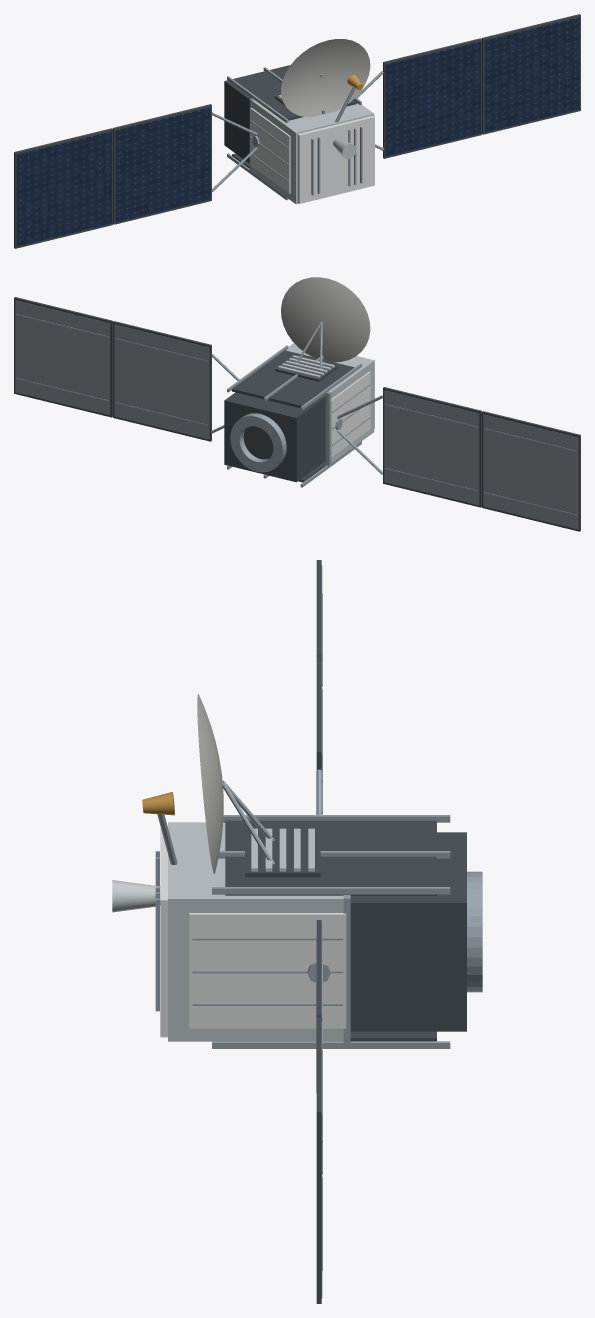
The model's file is a2100-amc-compact.glb.
The picture shows the model from 3 angles, top to bottom: view 1: azimuth 30°, elevation 25°; view 2: azimuth 150°, elevation 25°; view 3: azimuth 270°, elevation 25°; orthographic projection. The views are drawn at different scales.
Parts seen in each view (by area): view 1: Solar cell panel (×4), Communications reflector, Earth-facing deck, Solar panel frame (×4), Payload module, Radiator face, Service module, Equipment bay sidewall, Equipment bay longeron, Payload feed cluster; view 2: Rear array substrate (×4), Communications reflector, Service module, Solar panel frame (×4), Equipment bay sidewall, Radiator face, Launch adapter ring, Payload module, Module interface, Louvre surround; view 3: Service module, Radiator face, Payload module, Equipment bay sidewall (×2), Equipment bay longeron (×4), Communications reflector, Louvre surround, Launch adapter ring, Solar panel frame, Earth-facing deck, Payload feed cluster.
Part boxes in pixels (<box>): Solar cell panel (×4): <box>16,17,579,246</box>; Communications reflector: <box>281,39,370,117</box>; Earth-facing deck: <box>297,115,374,203</box>; Solar panel frame (×4): <box>14,14,580,248</box>; Payload module: <box>252,100,374,204</box>; Radiator face: <box>250,107,290,193</box>; Service module: <box>224,65,290,163</box>; Equipment bay sidewall: <box>234,67,356,120</box>; Equipment bay longeron: <box>227,76,288,122</box>; Payload feed cluster: <box>333,138,356,158</box>; Rear array substrate (×4): <box>15,300,578,529</box>; Communications reflector: <box>281,277,370,362</box>; Service module: <box>224,392,325,482</box>; Solar panel frame (×4): <box>14,297,580,531</box>; Equipment bay sidewall: <box>232,350,354,407</box>; Radiator face: <box>330,371,370,457</box>; Launch adapter ring: <box>230,413,286,472</box>; Payload module: <box>286,343,374,463</box>; Module interface: <box>322,391,331,465</box>; Louvre surround: <box>275,357,337,381</box>; Service module: <box>350,832,466,1031</box>; Radiator face: <box>189,913,346,1028</box>; Payload module: <box>168,822,343,1041</box>; Equipment bay sidewall (×2): <box>225,820,436,1041</box>; Equipment bay longeron (×4): <box>212,815,450,1048</box>; Communications reflector: <box>197,694,223,873</box>; Louvre surround: <box>245,830,320,877</box>; Launch adapter ring: <box>467,871,482,992</box>; Solar panel frame: <box>316,1016,321,1303</box>; Earth-facing deck: <box>160,827,167,1037</box>; Payload feed cluster: <box>112,880,160,912</box>.
Size of the model in its own units: 25.95 by 7.08 by 7.36.
Materials: 8 (1 with a texture image).
